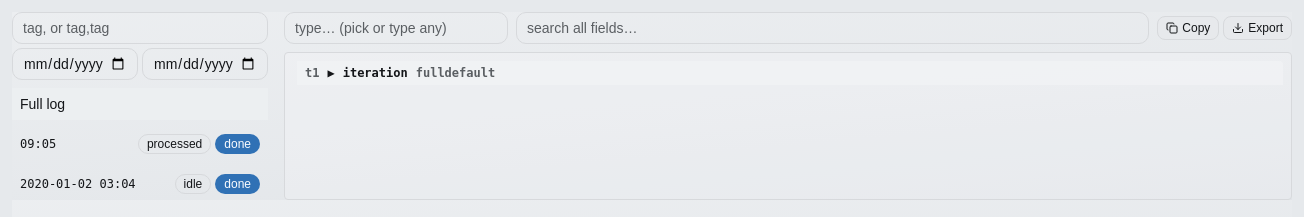
Test: AuditLogPage (merged iterations + audit log) › switches the right pane to the single-iteration log when an iteration is clicked
This screenshot has width=1304, height=217.
Expected: the text "09:05" is shown, [20,136,56,152]
Click the button "09:05 processed done". click: click(140, 144)
box: [12,128,268,160]
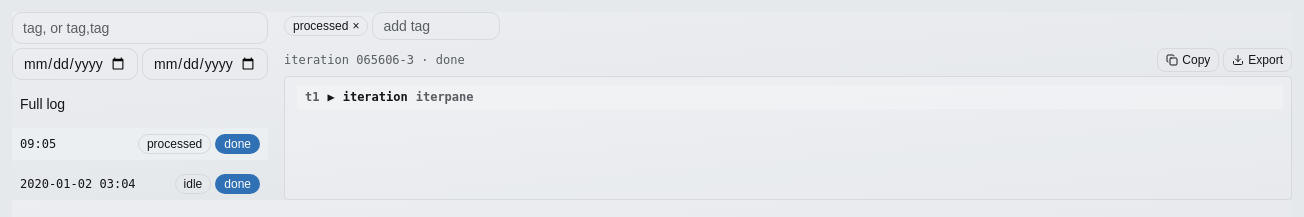
Result: the text "iteration 065606-3 · done" is shown at [284,52,465,68]
Result: the text "iterpane" is shown at [416,90,474,104]
